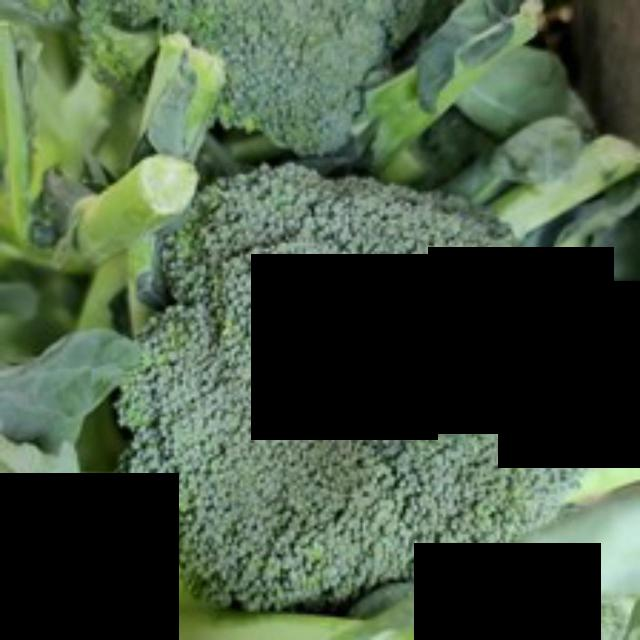broccoli: (119, 150, 589, 611)
